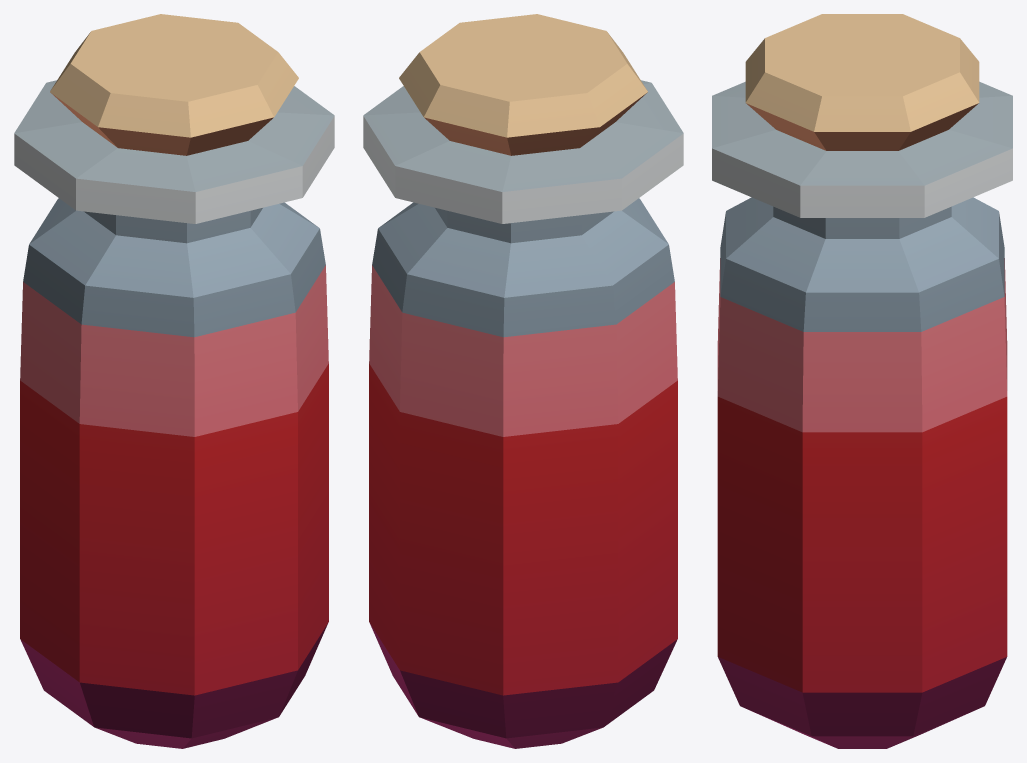
File: source.glb
3 renders of one model, left to right at view 1: azimuth 30°, elevation 25°; view 2: azimuth 150°, elevation 25°; view 3: azimuth 270°, elevation 25°, orthographic.
Parts seen in each view (by area): view 1: model; view 2: model; view 3: model.
Boxes of the visible parts, x1=… form: model: x1=14, y1=14, x2=334, y2=748; model: x1=363, y1=14, x2=683, y2=748; model: x1=712, y1=14, x2=1012, y2=748.
Size of the model in its own units: 0.22 by 0.54 by 0.22.
Materials: 1 (1 with a texture image).
